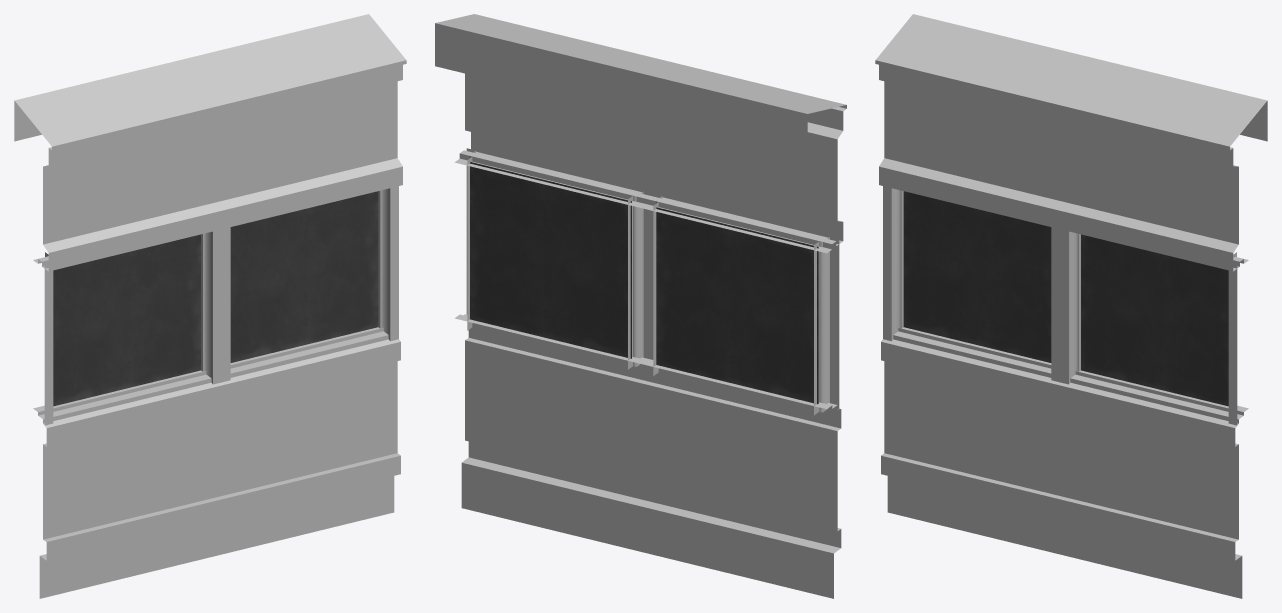
The model's file is Wall_out_window.fbx.
3 renders of one model, left to right at view 1: azimuth 30°, elevation 25°; view 2: azimuth 150°, elevation 25°; view 3: azimuth 330°, elevation 25°, orthographic. The views are drawn at different scales.
Parts seen in each view (by area): view 1: Wall_out_window, Wall_window_glass; view 2: Wall_out_window, Wall_window_glass; view 3: Wall_out_window, Wall_window_glass.
Boxes of the visible parts, left/top/right/bottom form: Wall_out_window: left=14, top=14, right=406, bottom=598; Wall_window_glass: left=53, top=191, right=378, bottom=406; Wall_out_window: left=435, top=14, right=846, bottom=598; Wall_window_glass: left=470, top=162, right=818, bottom=404; Wall_out_window: left=875, top=14, right=1267, bottom=598; Wall_window_glass: left=903, top=191, right=1228, bottom=406.
Size of the model in its own units: 300 by 388 by 55.
